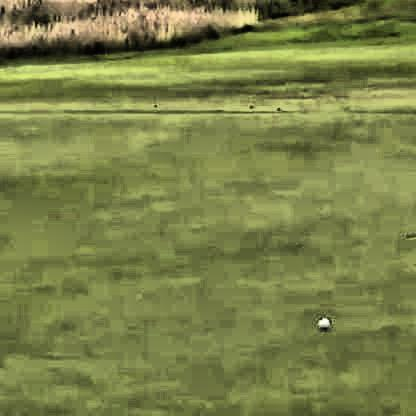golfball: (314, 314, 328, 330)
